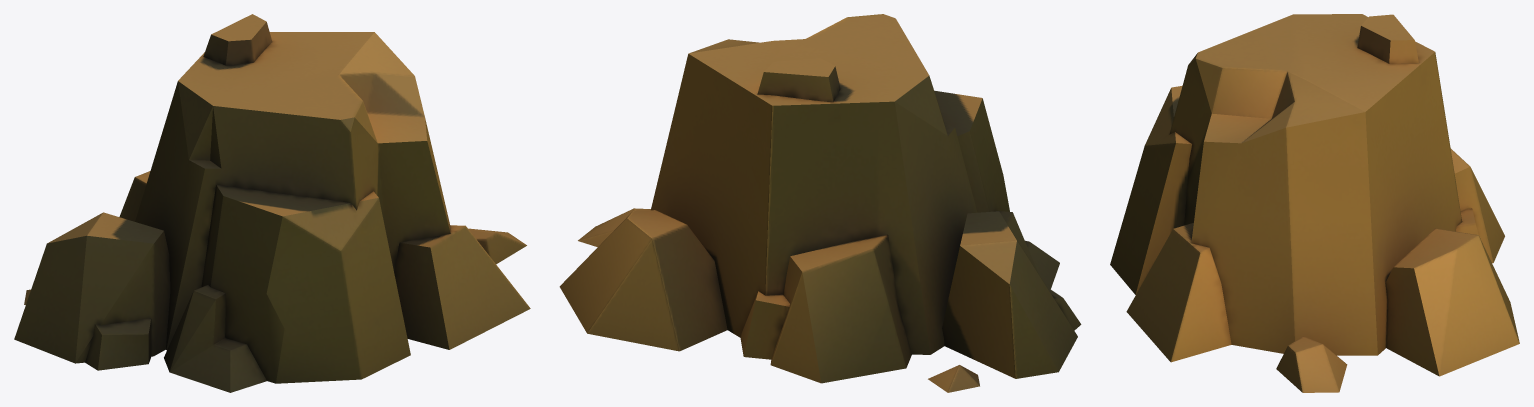
The model's file is Sce_worldmap_copper_02.FBX.
The picture shows the model from 3 angles, left to right: view 1: azimuth 30°, elevation 25°; view 2: azimuth 150°, elevation 25°; view 3: azimuth 270°, elevation 25°; orthographic projection. The views are drawn at different scales.
Parts seen in each view (by area): view 1: Sce_worldmap_copper_02; view 2: Sce_worldmap_copper_02; view 3: Sce_worldmap_copper_02.
Boxes of the visible parts, <box> form: Sce_worldmap_copper_02: <box>14,14,530,392</box>; Sce_worldmap_copper_02: <box>559,14,1081,392</box>; Sce_worldmap_copper_02: <box>1110,14,1519,392</box>.
Size of the model in its own units: 64.27 by 31.25 by 47.16.
